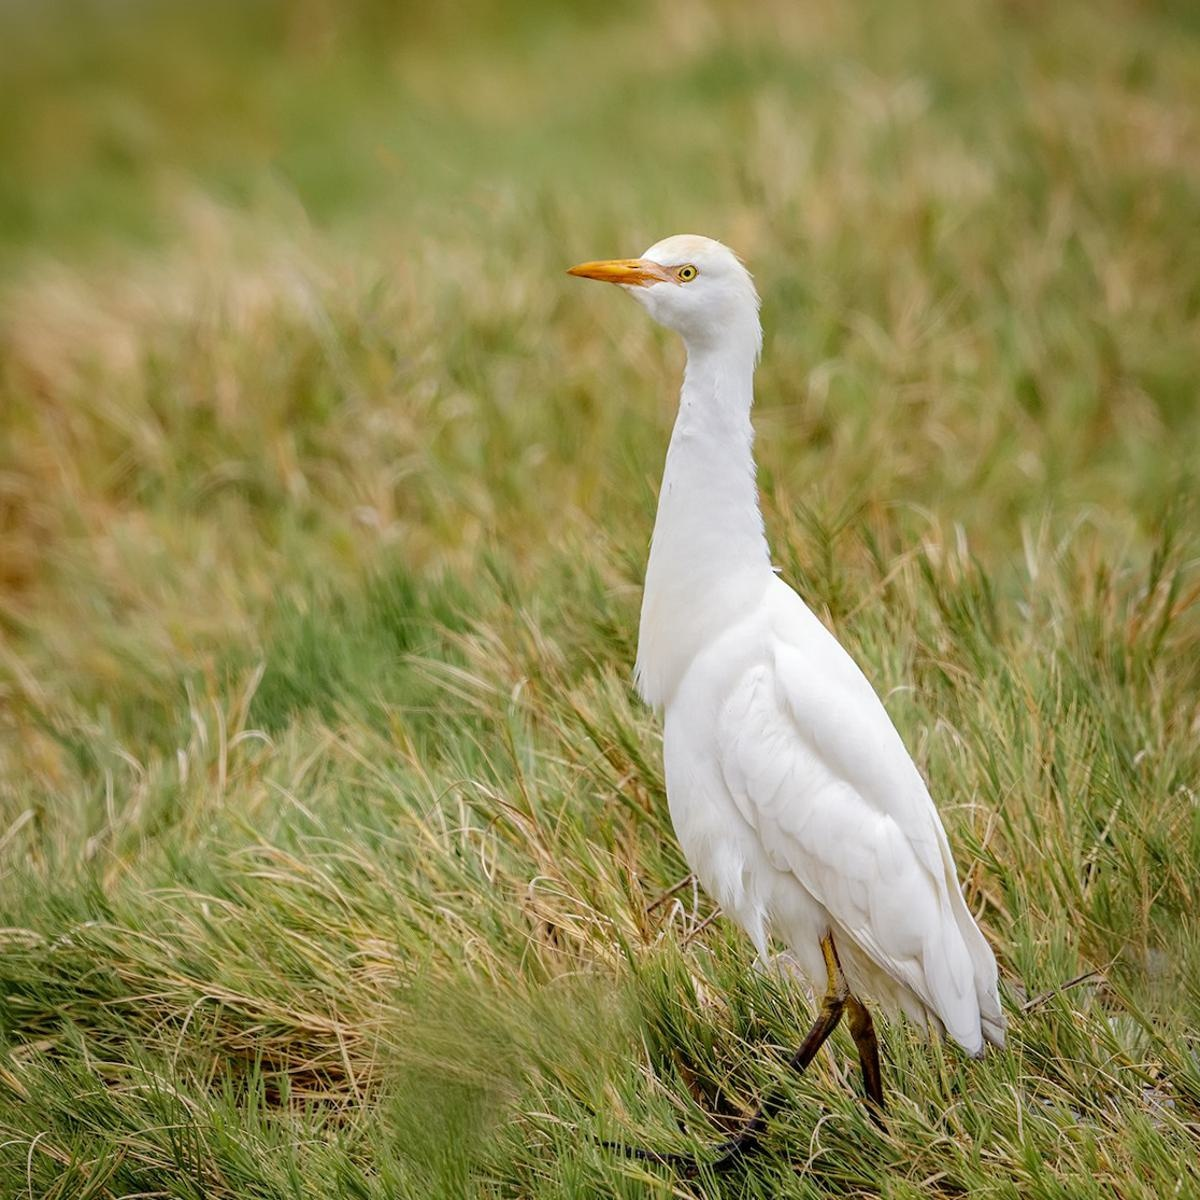egret: (567, 226, 1038, 1158)
